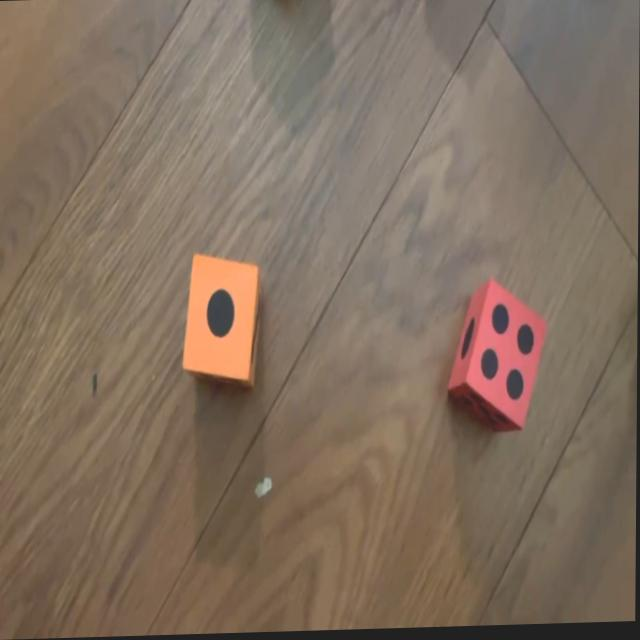cube: (448, 282, 547, 435)
